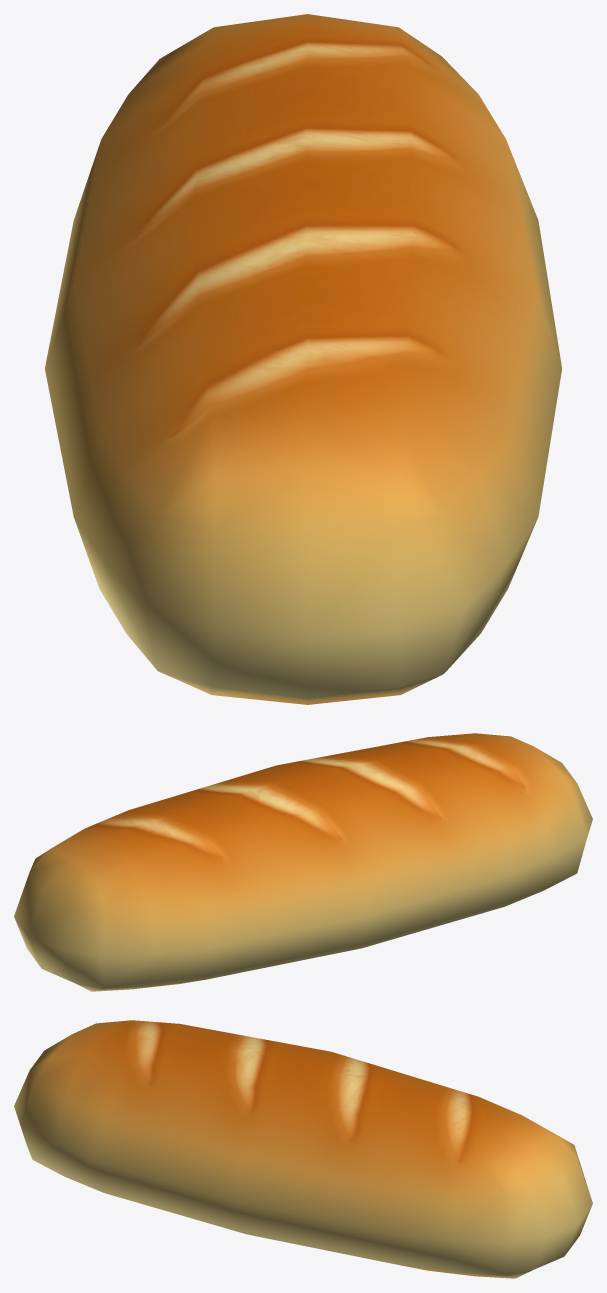
Rendered from bread.fbx.
3 renders of one model, top to bottom at view 1: azimuth 30°, elevation 25°; view 2: azimuth 150°, elevation 25°; view 3: azimuth 270°, elevation 25°, orthographic. The views are drawn at different scales.
Parts seen in each view (by area): view 1: French_02_French_0; view 2: French_02_French_0; view 3: French_02_French_0.
Boxes of the visible parts, x1,y1,x2,y2 form: French_02_French_0: (45, 14, 561, 704); French_02_French_0: (14, 733, 592, 991); French_02_French_0: (14, 1020, 592, 1278).
Size of the model in its own units: 64.66 by 27.37 by 89.21.
